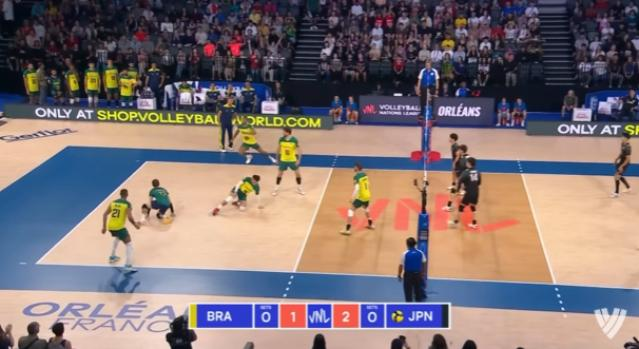Levantador: (338, 160, 381, 238), (443, 129, 461, 157)
Libero: (140, 180, 179, 226)
bola: (126, 76, 140, 90)
